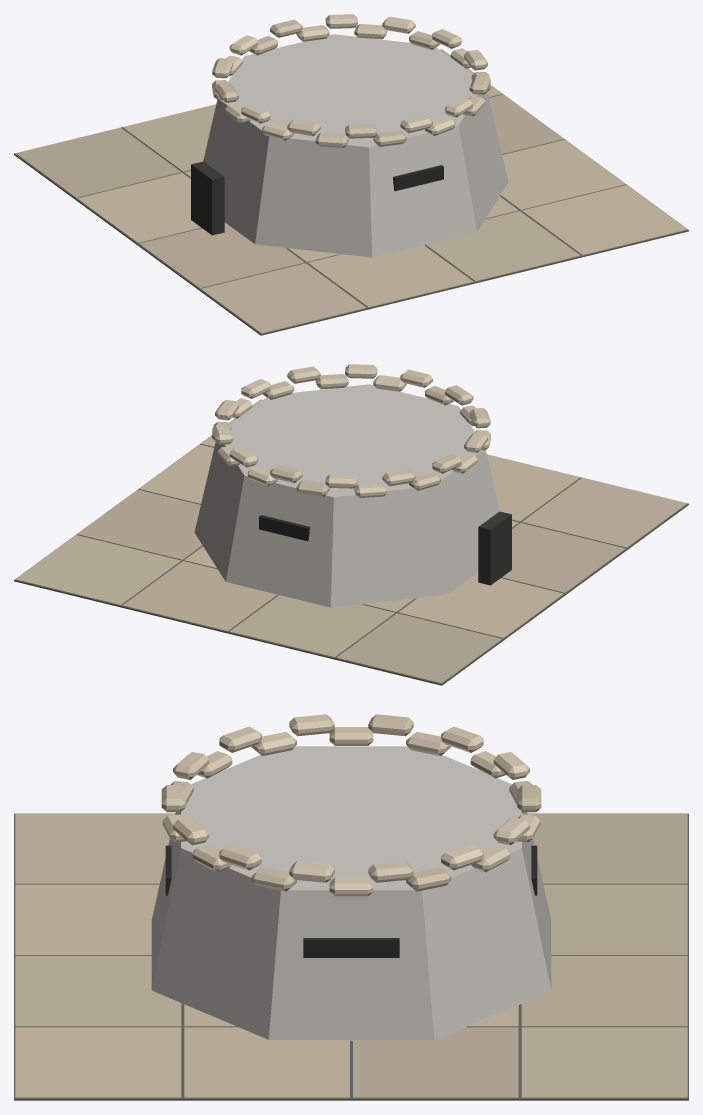
Rendered from b_bunker.glb.
3 views of the same model, one above another, from view 1: azimuth 30°, elevation 25°; view 2: azimuth 150°, elevation 25°; view 3: azimuth 270°, elevation 25° (orthographic). The views are drawn at different scales.
Visible parts, largest first — view 1: hull; view 2: hull; view 3: hull.
Part boxes in pixels (<box>): hull: <box>14,14,688,335</box>; hull: <box>14,364,688,685</box>; hull: <box>14,714,688,1100</box>.
Bounding box in the file's own units: 14 × 3.8 × 14.
